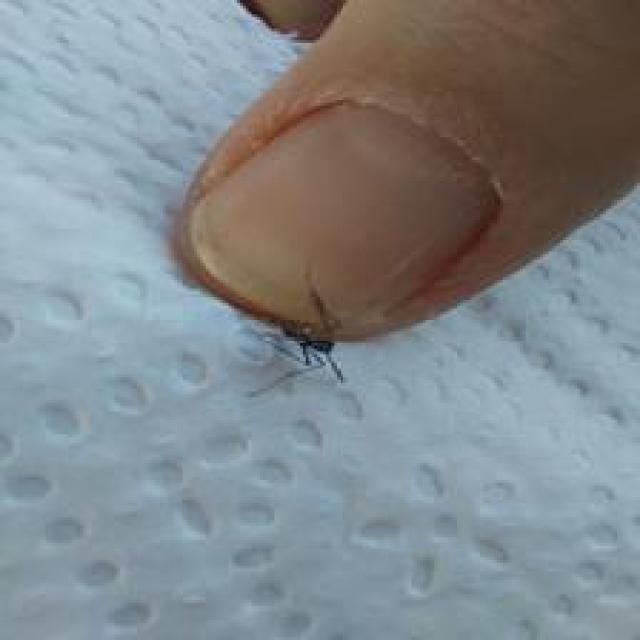Aedes albopictus: (277, 320, 346, 383)
